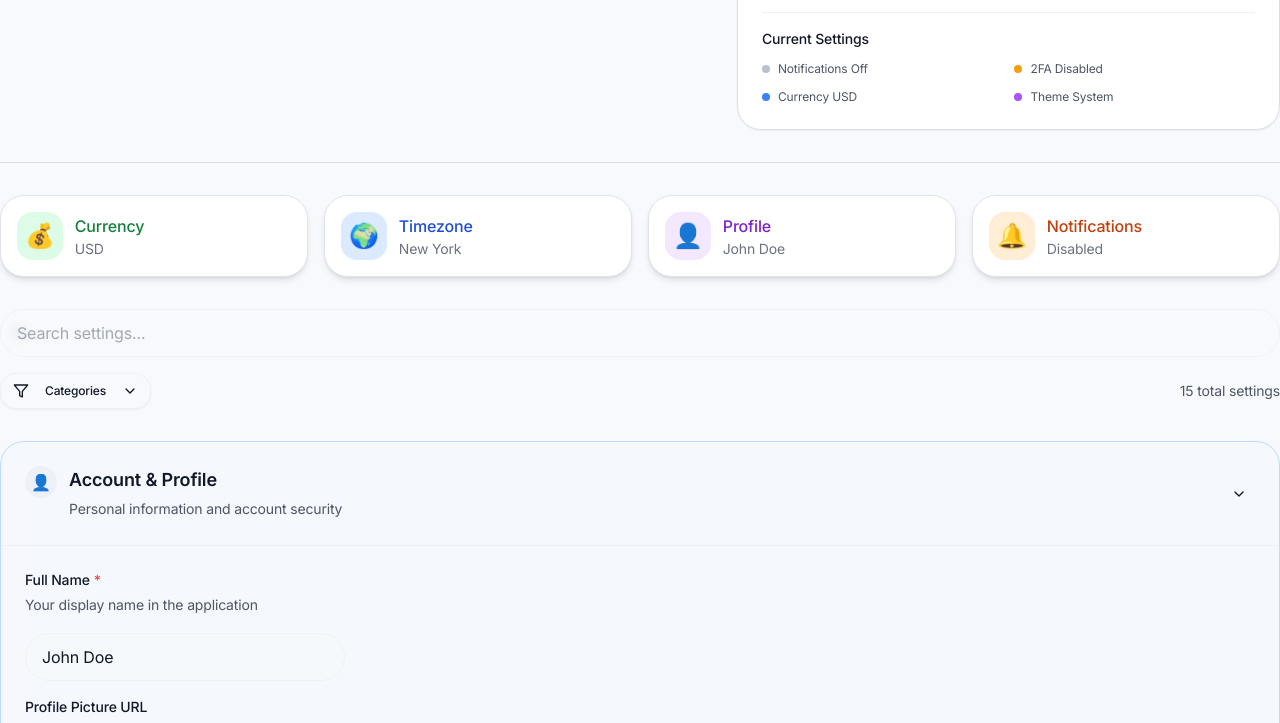
Test: SettingsPageRedesigned › Search and Filtering › shows no results message when search yields no matches
(page scrolled)
In the field with placeholder "Search settings...": (640, 333) [0,309,1279,357], type "nonexistent"
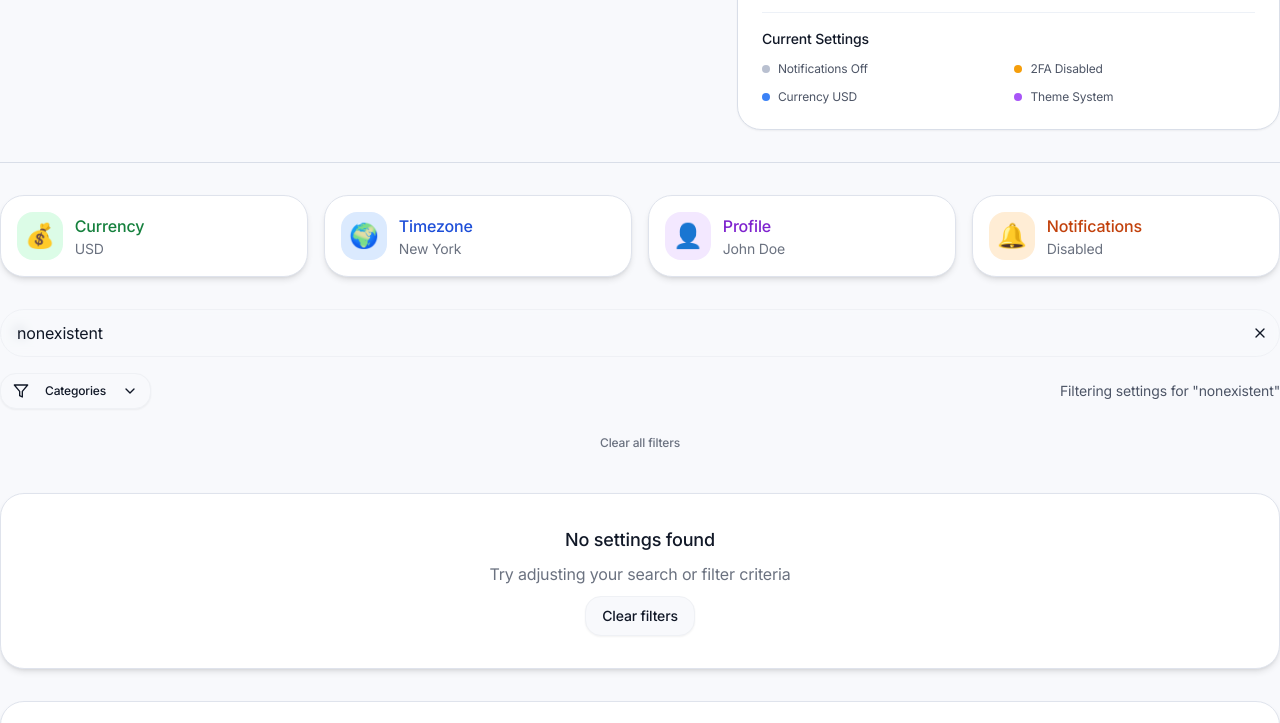
Check: the heading "No settings found" is shown, box [565,529,715,550]
Check: the button "Clear filters" is shown, box [585,596,695,636]
